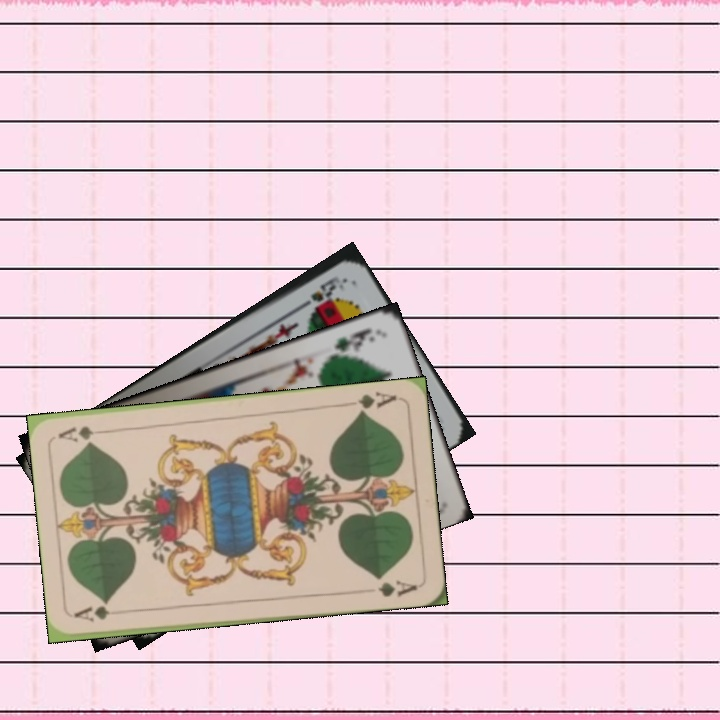GA: (342, 388, 399, 417), (71, 602, 130, 624)
GK: (325, 324, 378, 362)
SK: (293, 271, 347, 313)
